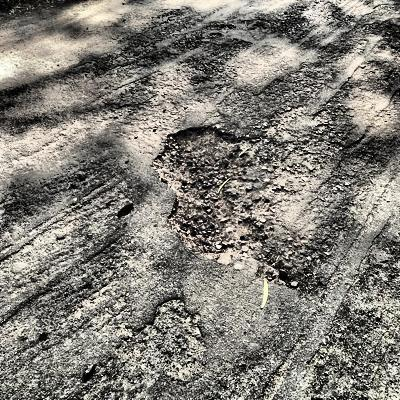pothole: (149, 124, 265, 264)
